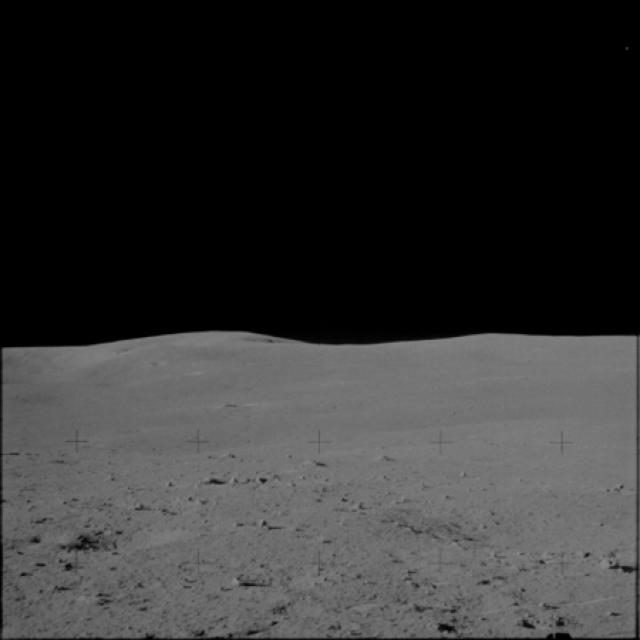crater: (378, 481, 639, 573), (62, 515, 196, 563)
